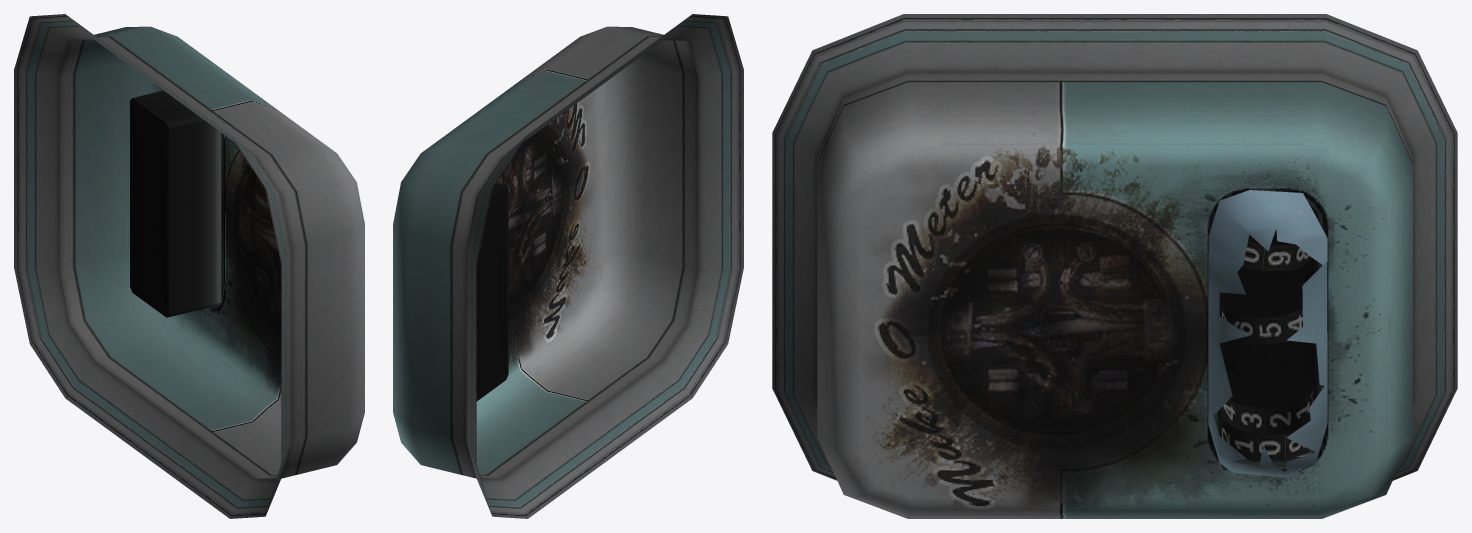
File: nt_2020_wall_meter_dest_LOD1.obj
The picture shows the model from 3 angles, left to right: view 1: azimuth 30°, elevation 25°; view 2: azimuth 150°, elevation 25°; view 3: azimuth 270°, elevation 25°; orthographic projection. The views are drawn at different scales.
Visible parts, largest first — view 1: mtl_nt_2020_wall_meter_01_dest; view 2: mtl_nt_2020_wall_meter_01_dest; view 3: mtl_nt_2020_wall_meter_01_dest, glass_clear_model, mtl_nt_2020_wall_meter_01.
Part boxes in pixels (<box>): mtl_nt_2020_wall_meter_01_dest: <box>14,14,364,518</box>; mtl_nt_2020_wall_meter_01_dest: <box>393,14,743,518</box>; mtl_nt_2020_wall_meter_01_dest: <box>772,14,1457,518</box>; glass_clear_model: <box>1208,190,1327,477</box>; mtl_nt_2020_wall_meter_01: <box>1219,229,1312,461</box>.
Bounding box in the file's own units: 14.27 × 35.66 × 44.91.
